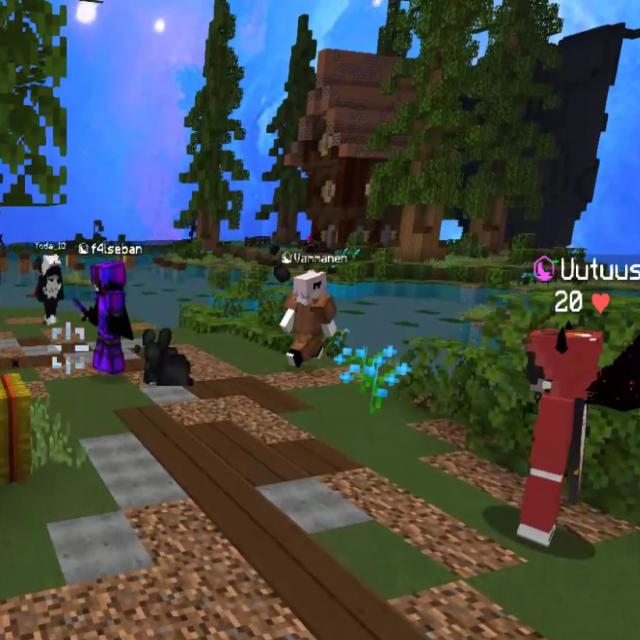Player: (514, 327, 601, 546), (280, 268, 336, 367), (86, 258, 134, 373), (32, 254, 67, 326)
